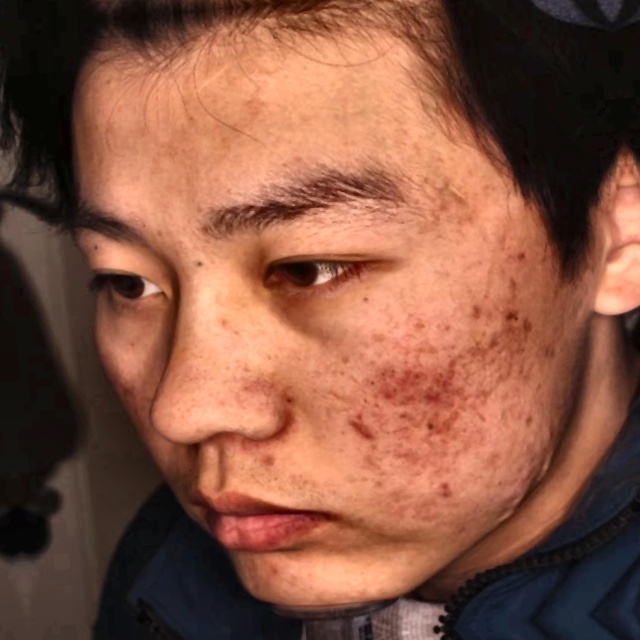comedone: (459, 294, 494, 331), (347, 414, 384, 441), (417, 385, 451, 412)
